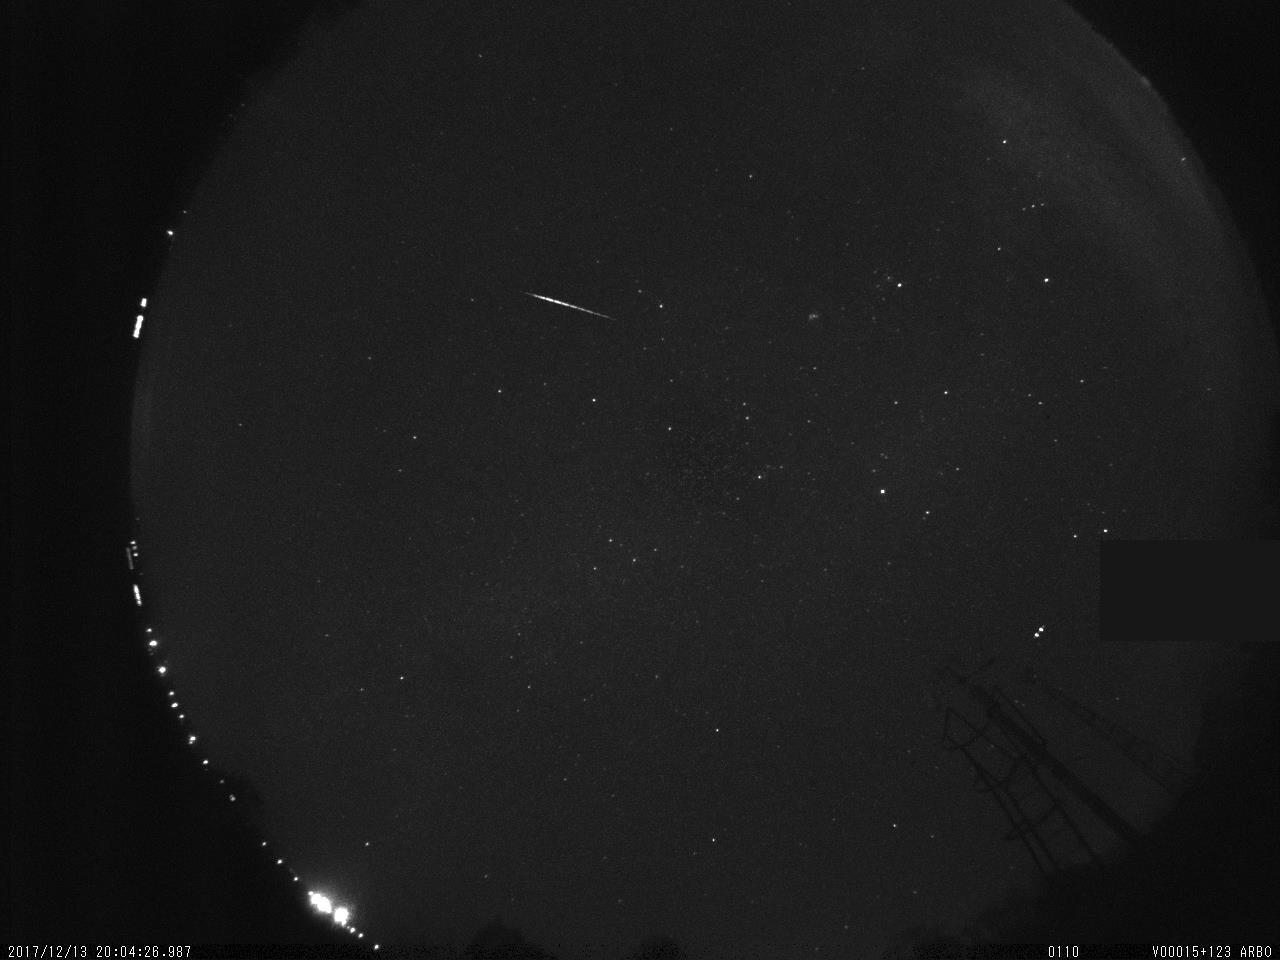meteor: (511, 282, 628, 328)
